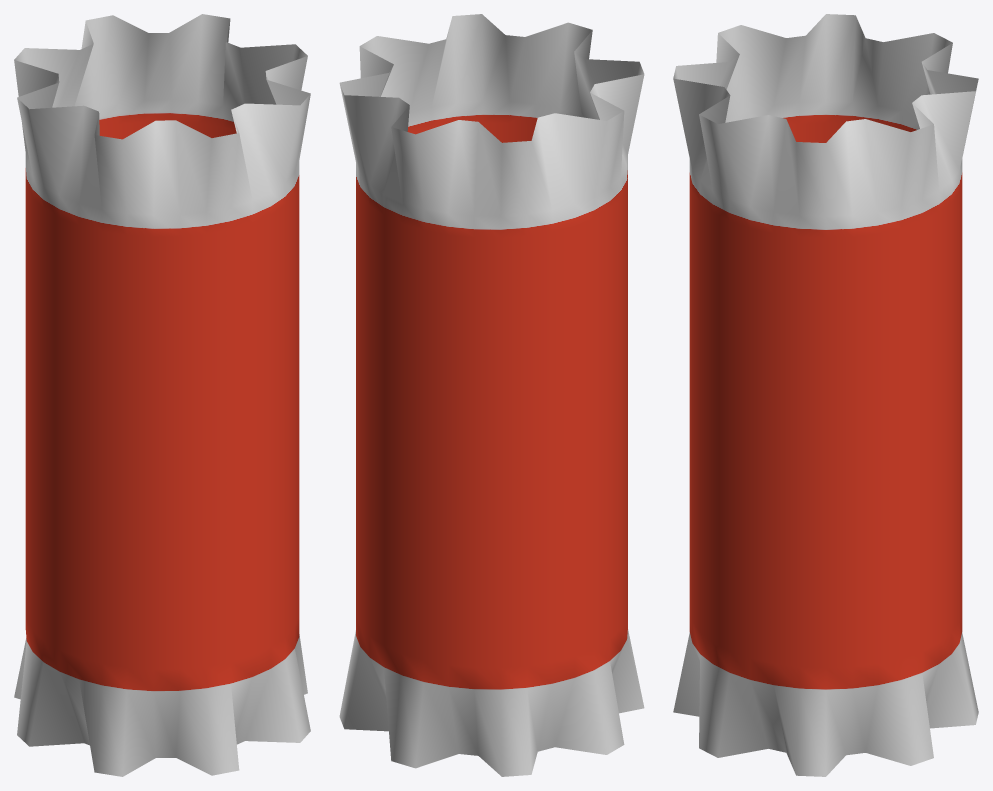
File: reimu_hairtie.glb
3 views of the same model, side by side, from view 1: azimuth 30°, elevation 25°; view 2: azimuth 150°, elevation 25°; view 3: azimuth 270°, elevation 25° (orthographic).
Visible parts, largest first — view 1: reimu_rhairtie; view 2: reimu_rhairtie; view 3: reimu_rhairtie.
Part boxes in pixels (box(x1,y1,x2,y2)): reimu_rhairtie: box(14, 14, 310, 776); reimu_rhairtie: box(339, 14, 644, 776); reimu_rhairtie: box(673, 14, 978, 776).
Bounding box in the file's own units: 0.1689 × 0.3865 × 0.1689.
1 material, 1 textured.
